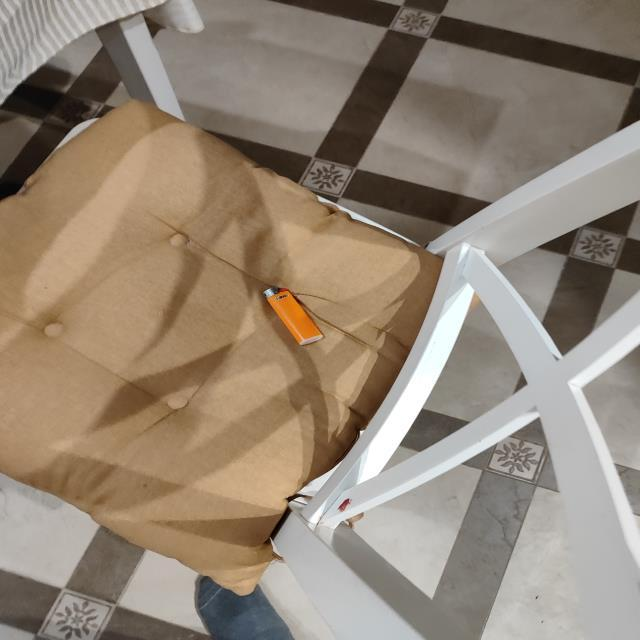lighter: (266, 289, 323, 345)
